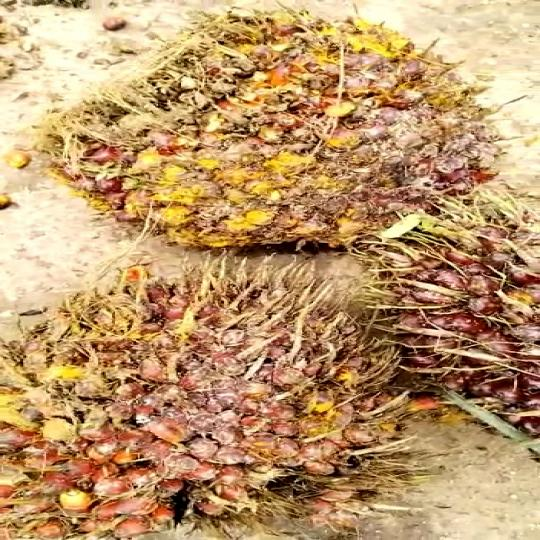masak: (13, 9, 509, 268), (0, 260, 442, 540)
